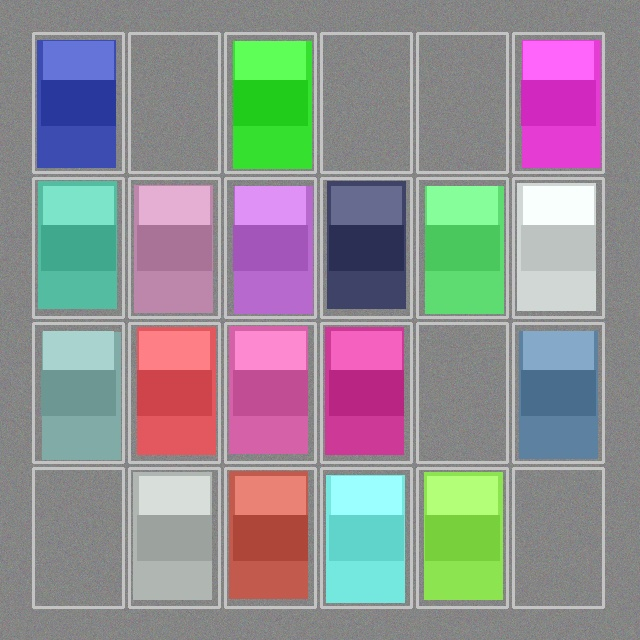space-empty: (131, 35, 217, 170), (323, 35, 409, 170), (419, 35, 505, 170), (419, 325, 505, 460), (35, 470, 121, 605), (515, 470, 601, 605)
space-occupied: (35, 35, 121, 170), (227, 35, 313, 170), (515, 35, 601, 170), (35, 180, 121, 315), (131, 180, 217, 315), (227, 180, 313, 315), (323, 180, 409, 315), (419, 180, 505, 315), (515, 180, 601, 315), (35, 325, 121, 460), (131, 325, 217, 460), (227, 325, 313, 460), (323, 325, 409, 460), (515, 325, 601, 460), (131, 470, 217, 605), (227, 470, 313, 605), (323, 470, 409, 605), (419, 470, 505, 605)
